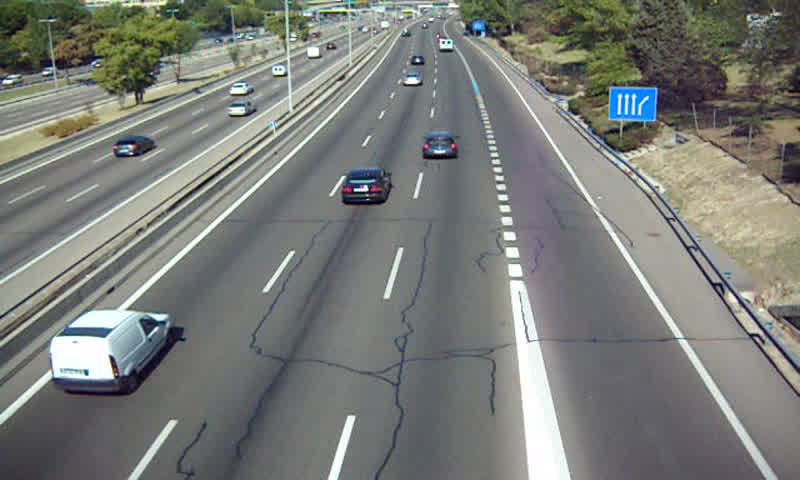car: (343, 168, 391, 204), (421, 135, 457, 159), (402, 72, 424, 86), (408, 55, 425, 69)
van: (49, 312, 173, 393)
